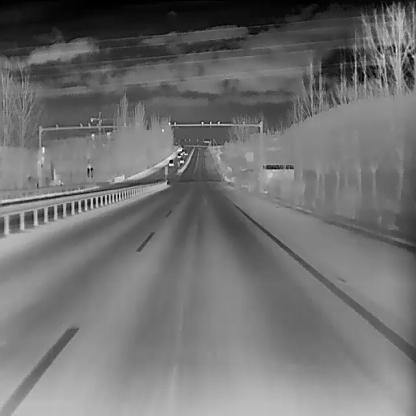car: (168, 158, 173, 166), (180, 156, 184, 163), (176, 152, 180, 158), (184, 151, 188, 156), (181, 148, 184, 154), (179, 151, 182, 156)
